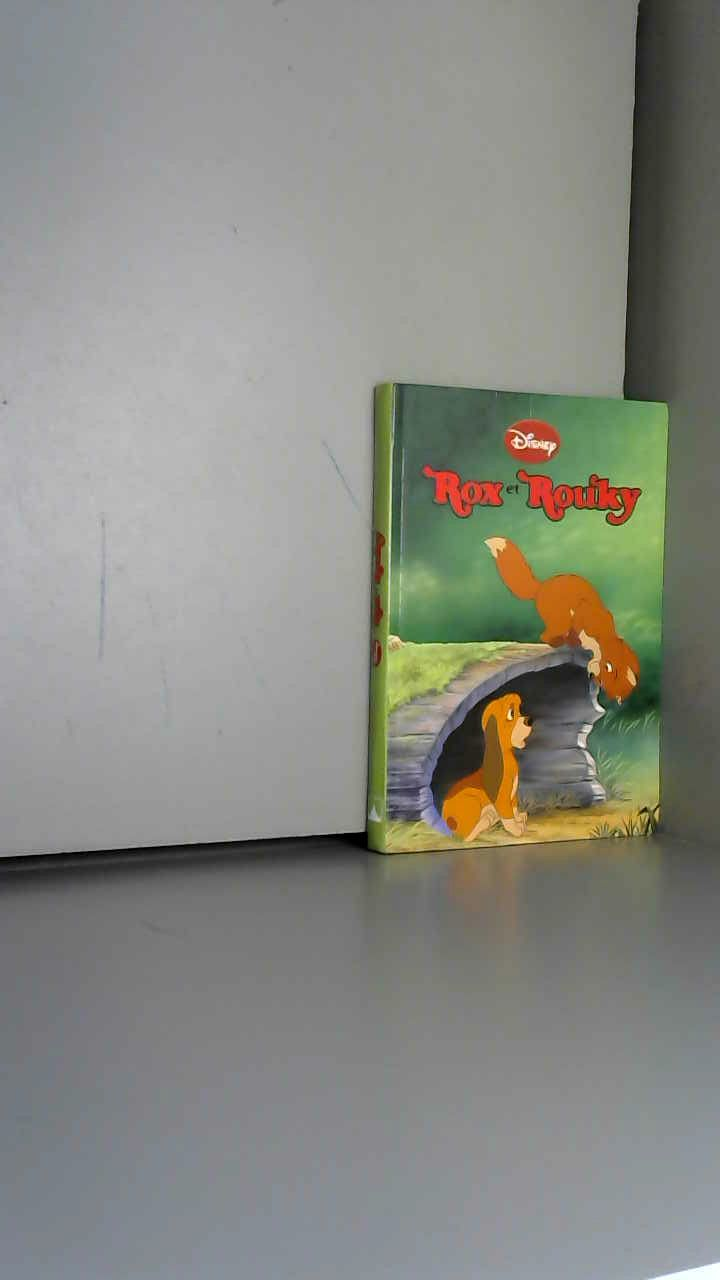book: (340, 360, 720, 883)
